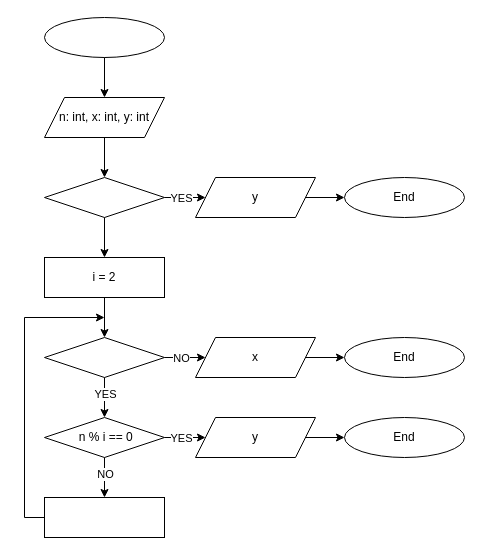
Some shapes in this 482 by 555 pixel diagram are drawn without their labels. Here are the shapes that lost their labels. From the top down, the centre of each, then its label:
At (104,37): "Start".
At (104,197): "n = 1".
At (104,357): "i <= sqrt(n)".
At (104,517): "i += 1".
